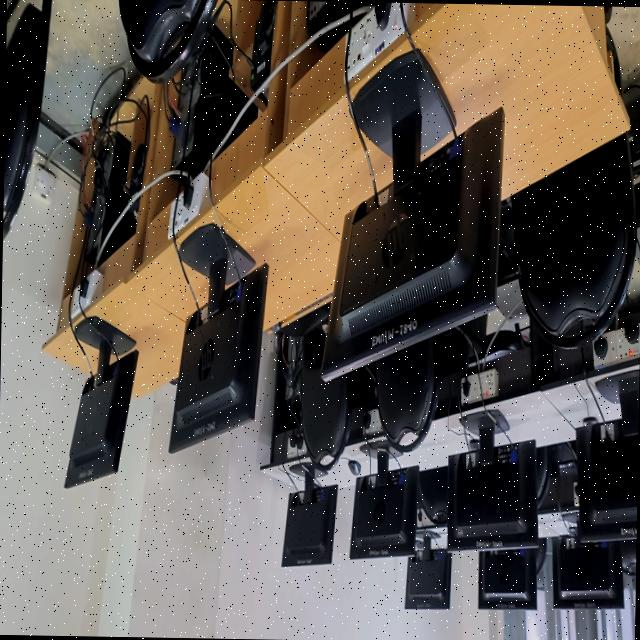Chair: (509, 132, 634, 348), (1, 0, 50, 239), (372, 333, 442, 452), (117, 0, 215, 82), (300, 363, 349, 473), (418, 466, 446, 523), (535, 445, 550, 506)
Cpu: (171, 30, 246, 177), (84, 136, 135, 262), (280, 334, 302, 418), (306, 0, 347, 33), (224, 105, 256, 147), (354, 1, 370, 5)
Monitor: (320, 1, 503, 380), (168, 222, 267, 452), (64, 315, 137, 487), (445, 414, 536, 550), (574, 370, 639, 540), (348, 444, 417, 558), (280, 460, 336, 565), (551, 538, 621, 608), (477, 548, 536, 608), (403, 535, 450, 608)
